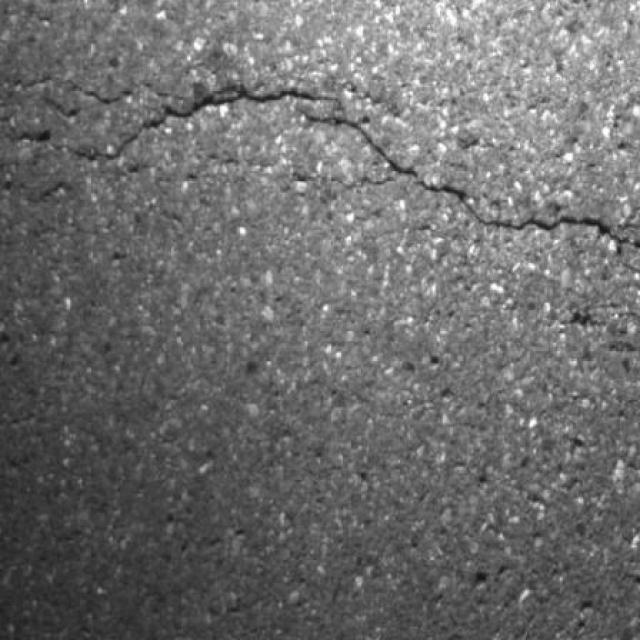Crack: (2, 78, 640, 249)
